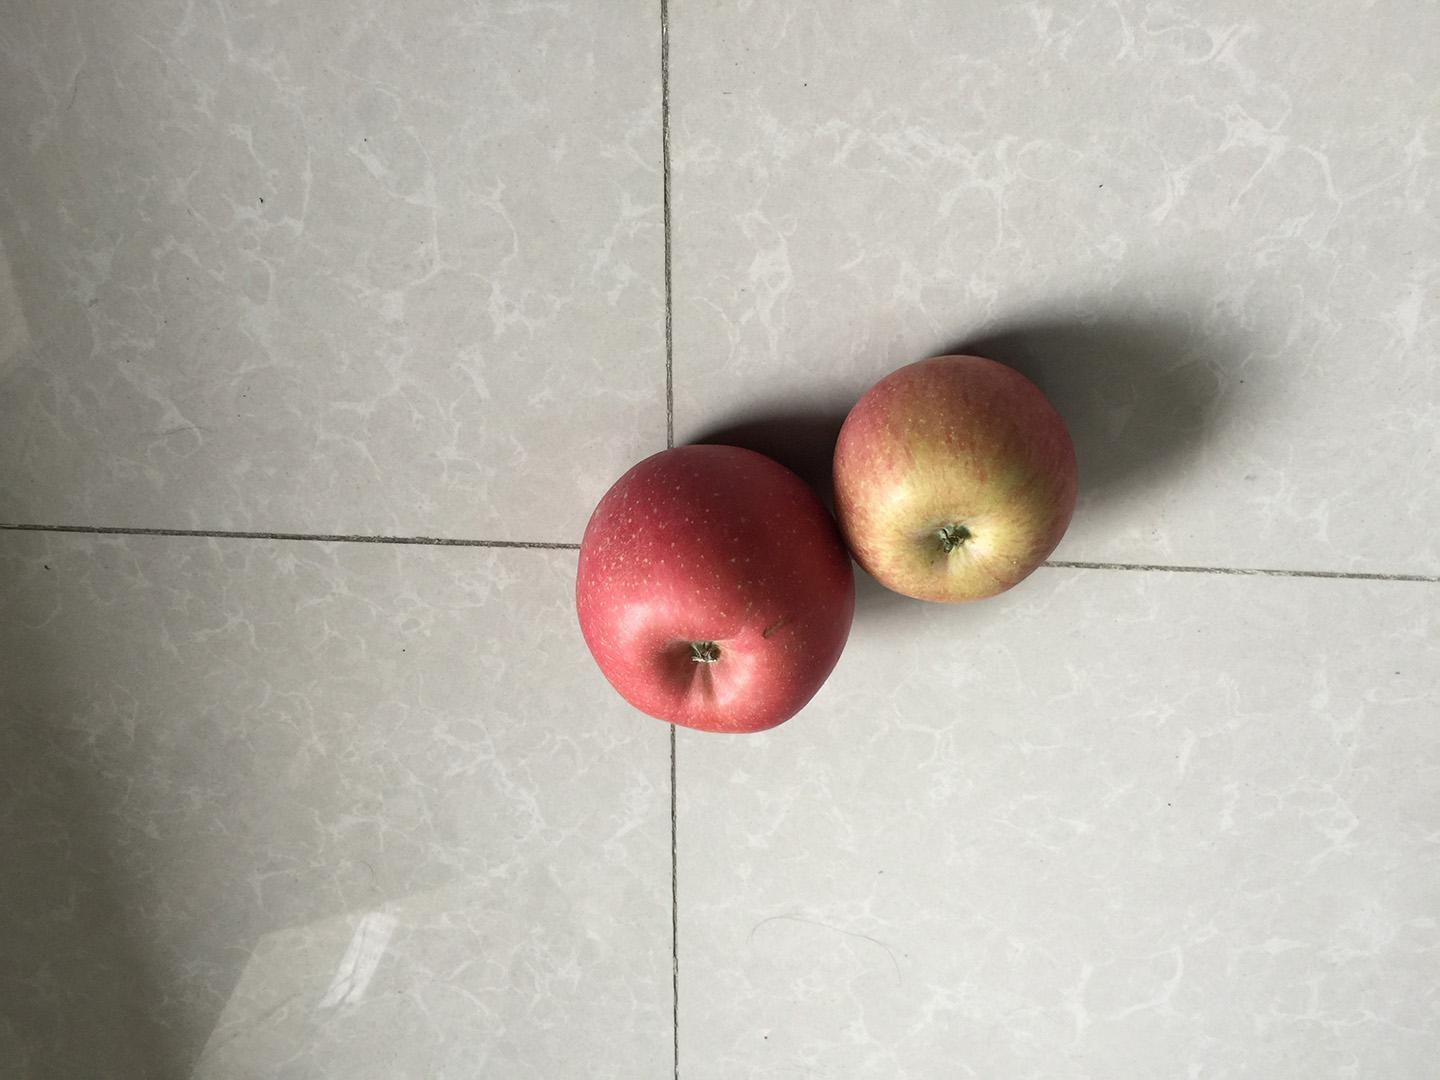apple: (571, 436, 863, 741), (825, 351, 1083, 611)
